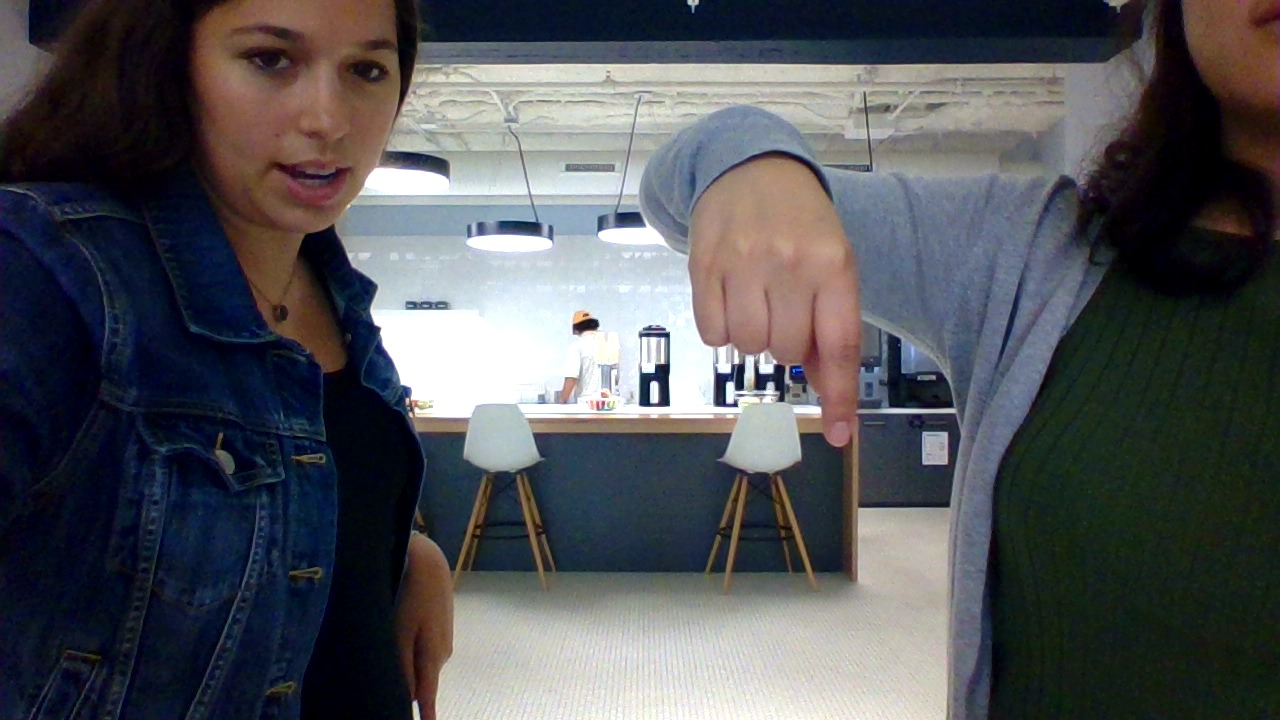q: (658, 121, 892, 477)
